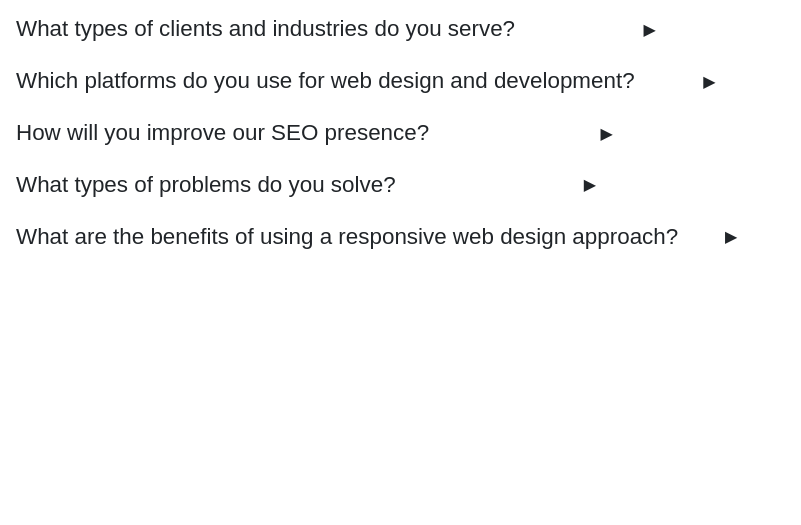
AccordionComponent › only one accordion item is expanded at a time
Click the button "What types of clients and industries do you serve?". click: [400, 29]
box: [16,16,784,43]
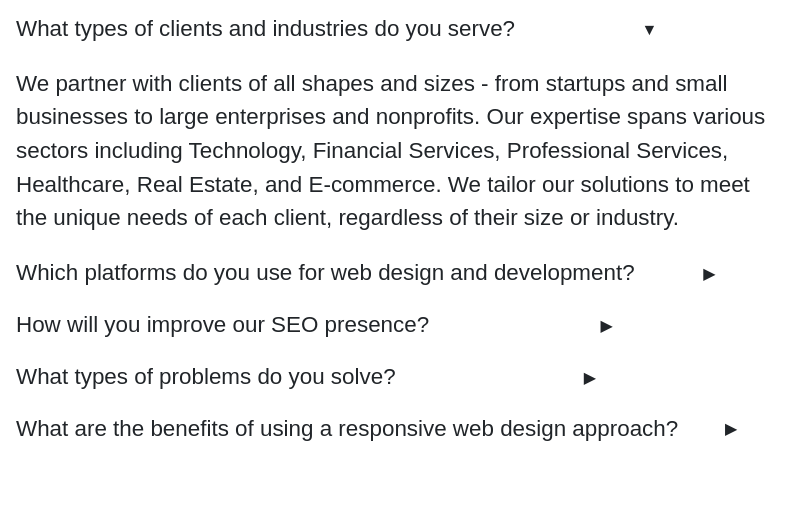
Check: the text "We partner with clients of all shapes and sizes - from startups and small businesses to large enterprises and nonprofits" is shown, box [16,71,765,230]
Click the button "Which platforms do you use for web design and development?". click: [400, 273]
box: [16,260,784,287]
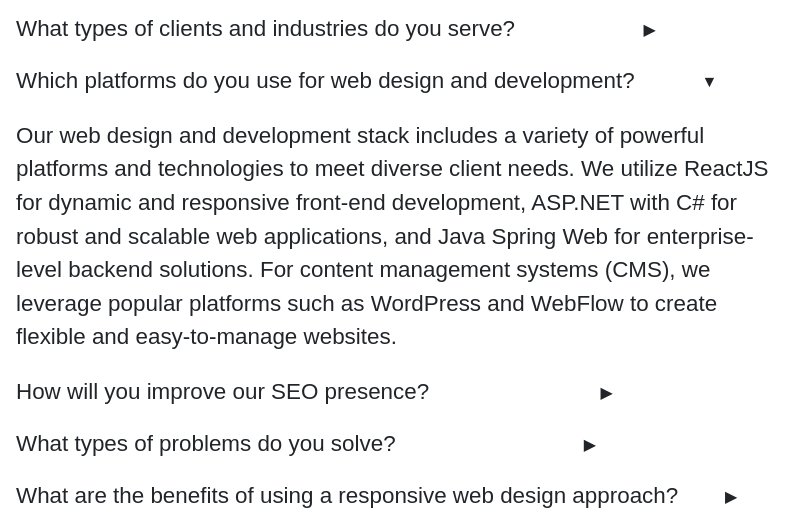
Check: the text "We partner with clients of all shapes and sizes - from startups and small businesses to large enterprises and nonprofits" is gone
Check: the text "Our web design and development stack includes a variety of powerful platforms and technologies to meet diverse client ne" is shown, box [16,123,768,350]
